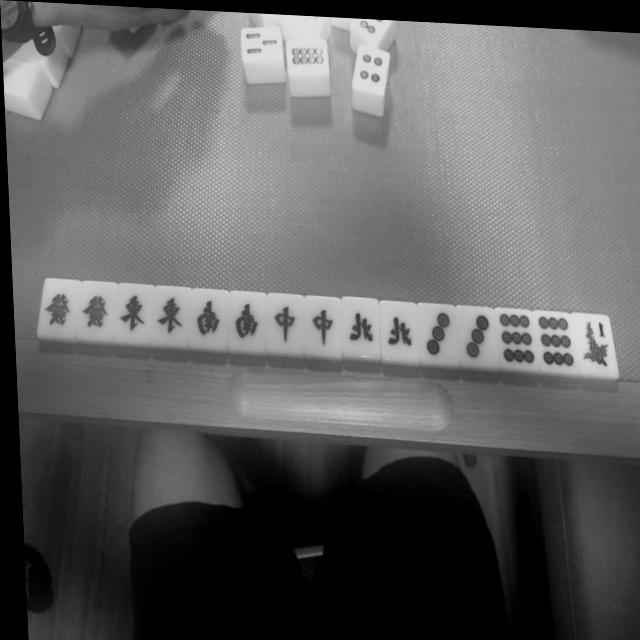east: (156, 291, 188, 338), (118, 288, 148, 335)
f1: (579, 313, 613, 372)
fa: (80, 286, 114, 335), (43, 282, 74, 334)
north: (383, 306, 415, 356), (344, 304, 378, 351)
south: (230, 296, 261, 342), (194, 292, 223, 341)
t3: (460, 309, 494, 365), (422, 309, 456, 359)
t9: (536, 312, 575, 370), (498, 309, 535, 367)
zhong: (271, 298, 301, 347), (309, 301, 339, 348)
